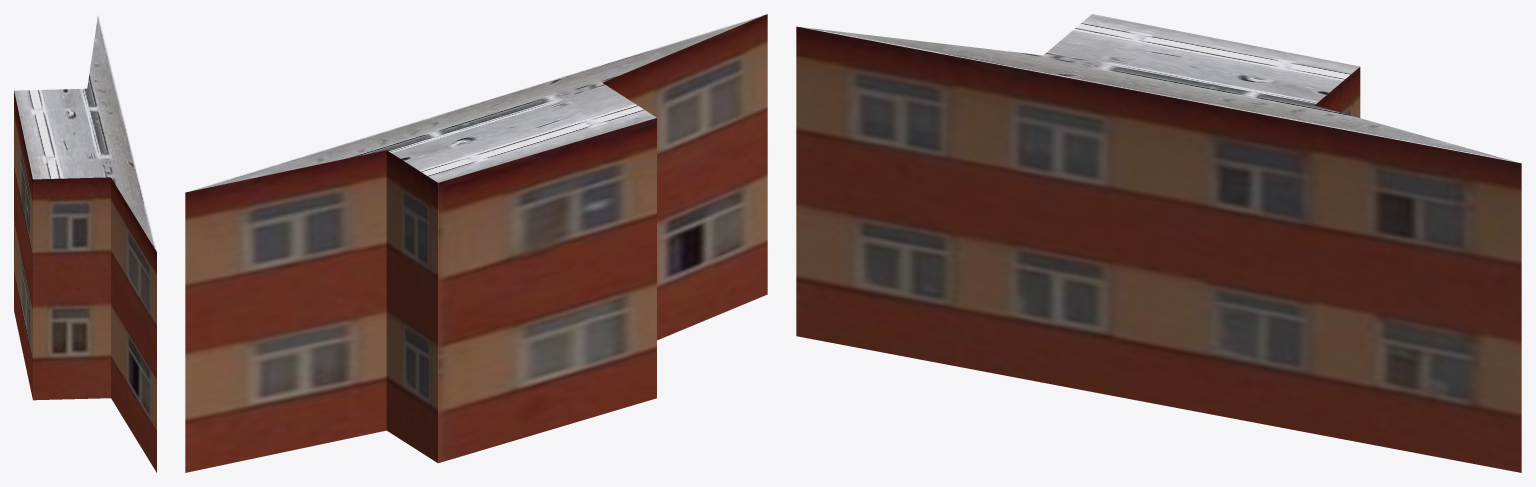
File: EduTex__10.fbx
3 renders of one model, left to right at view 1: azimuth 30°, elevation 25°; view 2: azimuth 150°, elevation 25°; view 3: azimuth 270°, elevation 25°, orthographic. The views are drawn at different scales.
Parts seen in each view (by area): view 1: CityEngineMaterial_13_m, CityEngineMaterial_10_m; view 2: CityEngineMaterial_13_m, CityEngineMaterial_10_m; view 3: CityEngineMaterial_13_m, CityEngineMaterial_10_m.
Boxes of the visible parts, x1=… form: CityEngineMaterial_13_m: x1=14, y1=91, x2=156, y2=472; CityEngineMaterial_10_m: x1=14, y1=14, x2=156, y2=251; CityEngineMaterial_13_m: x1=185, y1=14, x2=767, y2=472; CityEngineMaterial_10_m: x1=186, y1=14, x2=766, y2=192; CityEngineMaterial_13_m: x1=796, y1=26, x2=1521, y2=472; CityEngineMaterial_10_m: x1=799, y1=14, x2=1519, y2=162.
Size of the model in its own units: 6.21 by 6 by 12.74.
Materials: 2 (2 with a texture image).
